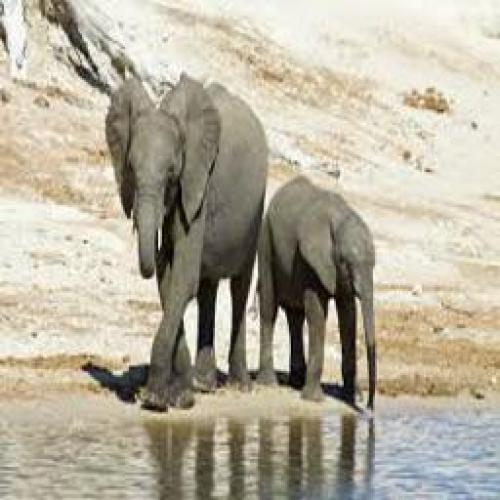african_elephant-endangered: (102, 82, 271, 404), (251, 176, 380, 412)
